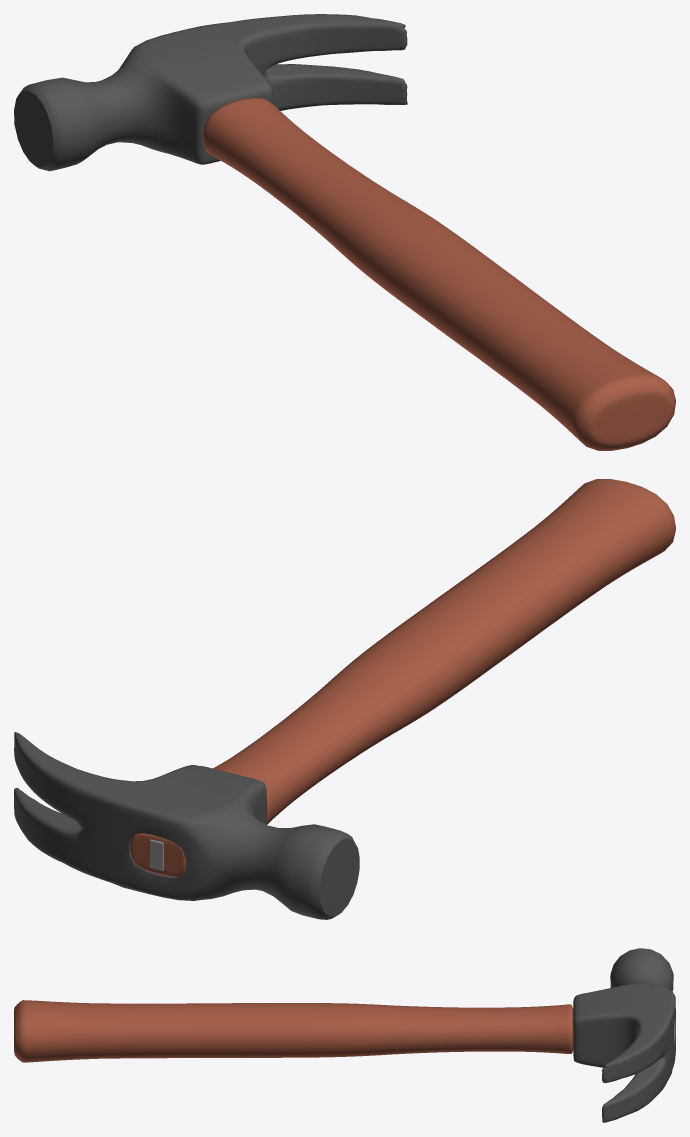
Rendered from Hammer.fbx.
The picture shows the model from 3 angles, top to bottom: view 1: azimuth 30°, elevation 25°; view 2: azimuth 150°, elevation 25°; view 3: azimuth 270°, elevation 25°; orthographic projection. The views are drawn at different scales.
Visible parts, largest first — view 1: Retopo_Handle; view 2: Retopo_Handle; view 3: Retopo_Handle.
Boxes of the visible parts, x1,y1,x2,y2 form: Retopo_Handle: [14, 14, 675, 450]; Retopo_Handle: [14, 479, 675, 919]; Retopo_Handle: [14, 948, 675, 1122].
Bounding box in the file's own units: 12.12 × 2.79 × 28.23.
